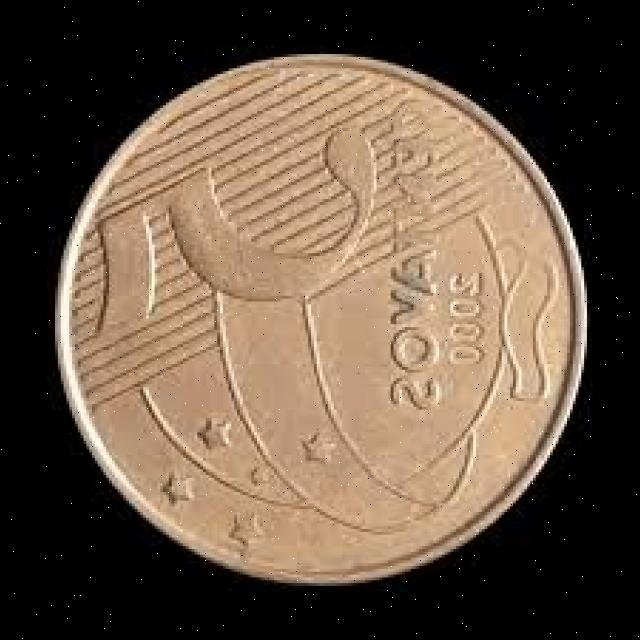5 cent: (56, 62, 576, 574)
